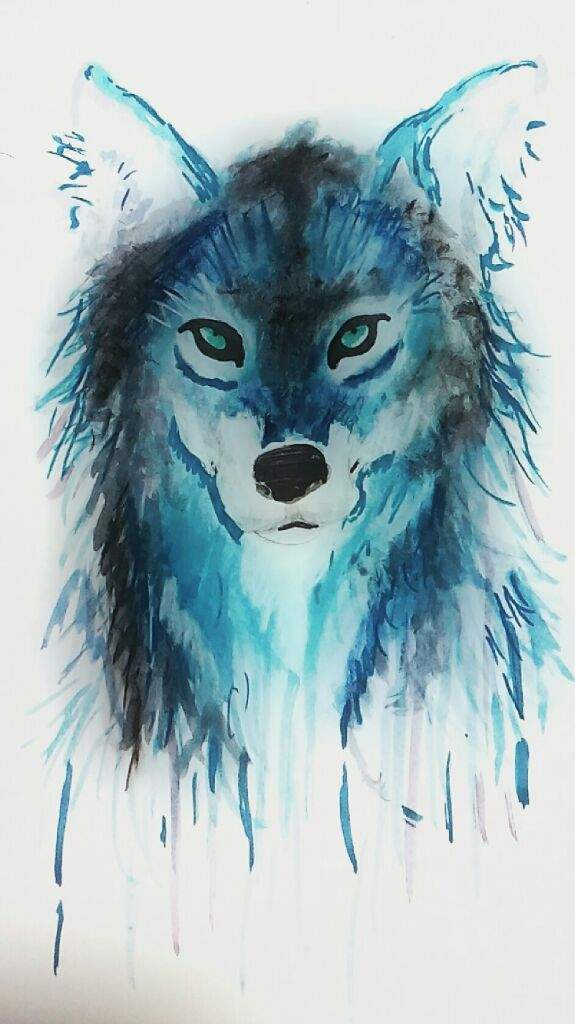Lobo: (41, 57, 569, 742)
